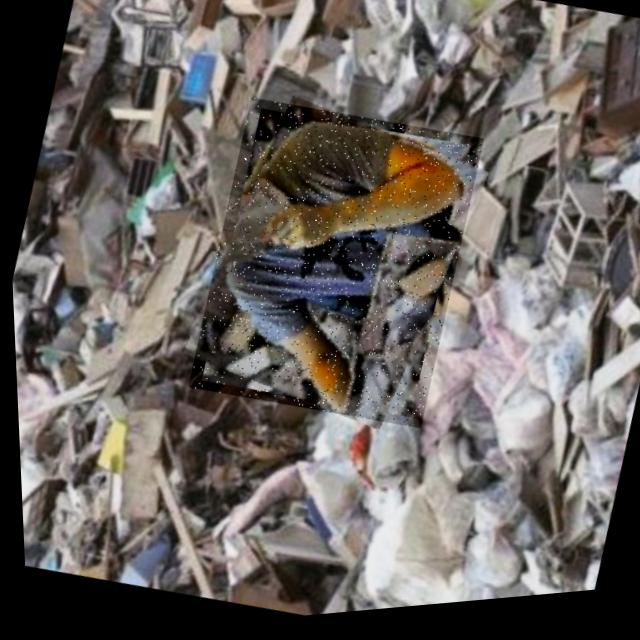Person in Rubble: (174, 84, 492, 451)
